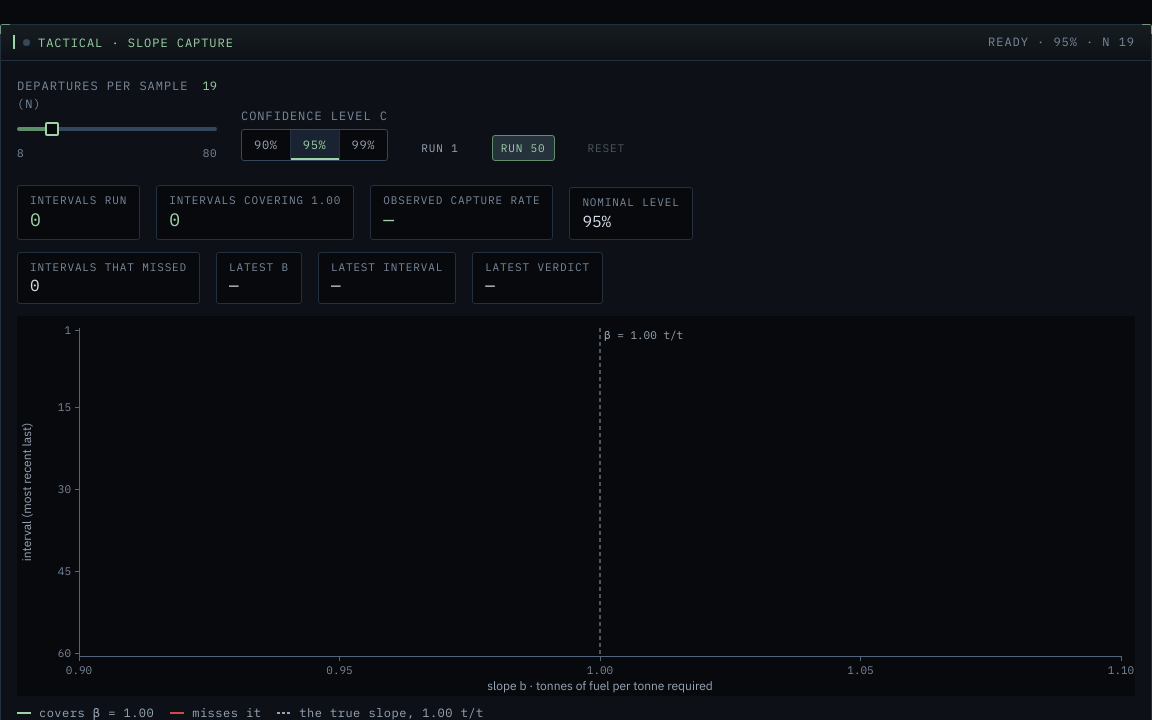
Test case: <SlopeCaptureSimulator> › clears the board when the level or the sample size changes, and on RESET
Click the button "RUN 50" at (523, 148), box [492,135,555,161]
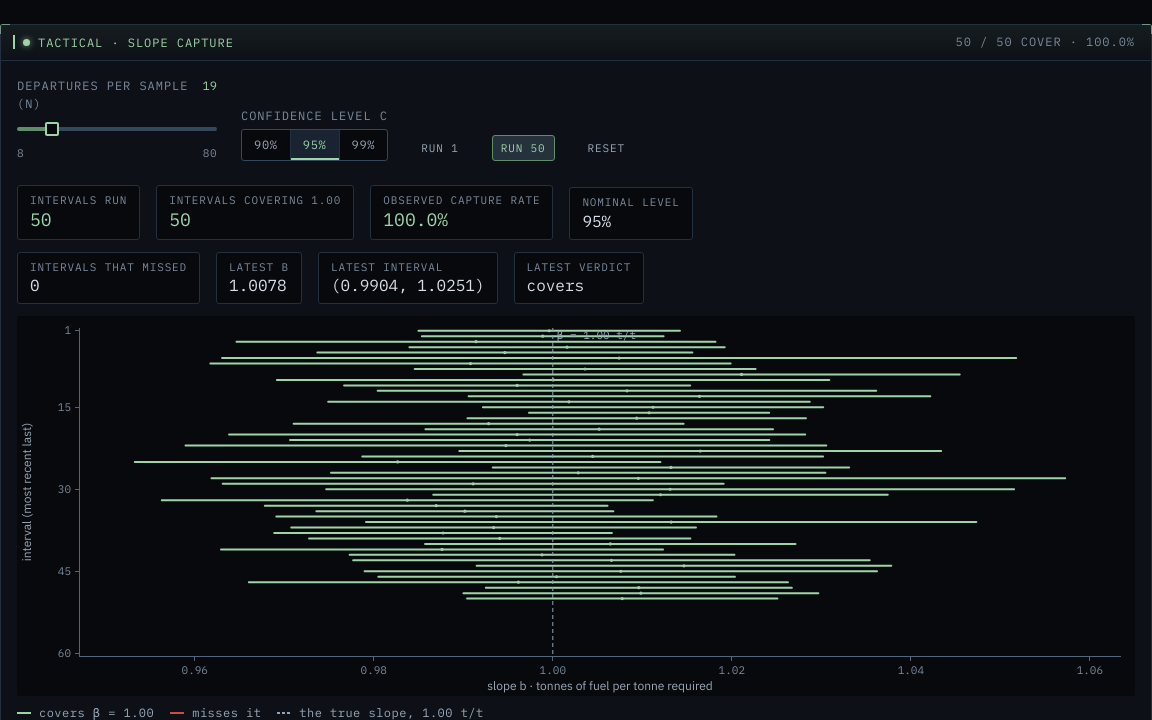
Expected: the 1st text "50" is shown, [30,208,52,231]
Click the radio button labelled "99%" at (363, 145), box [340,130,387,160]
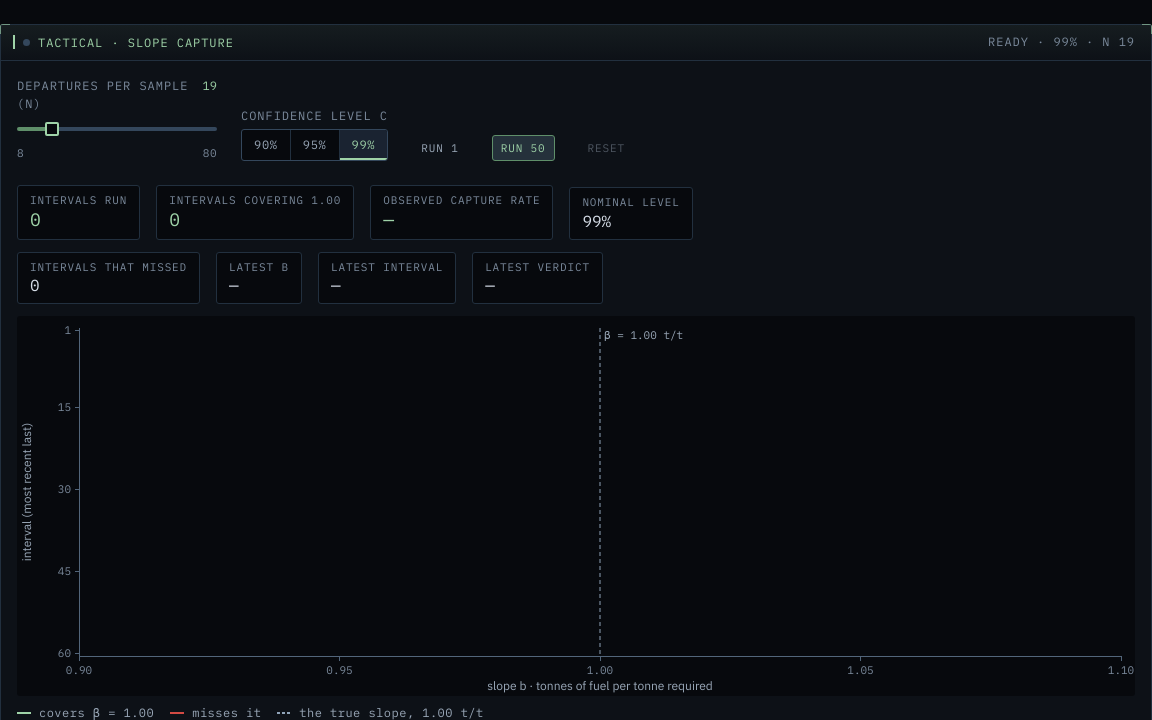
Expected: the 1st text "0" is shown, [30,208,41,231]
Click the button "RUN 1" at (440, 148), box [412,135,468,161]
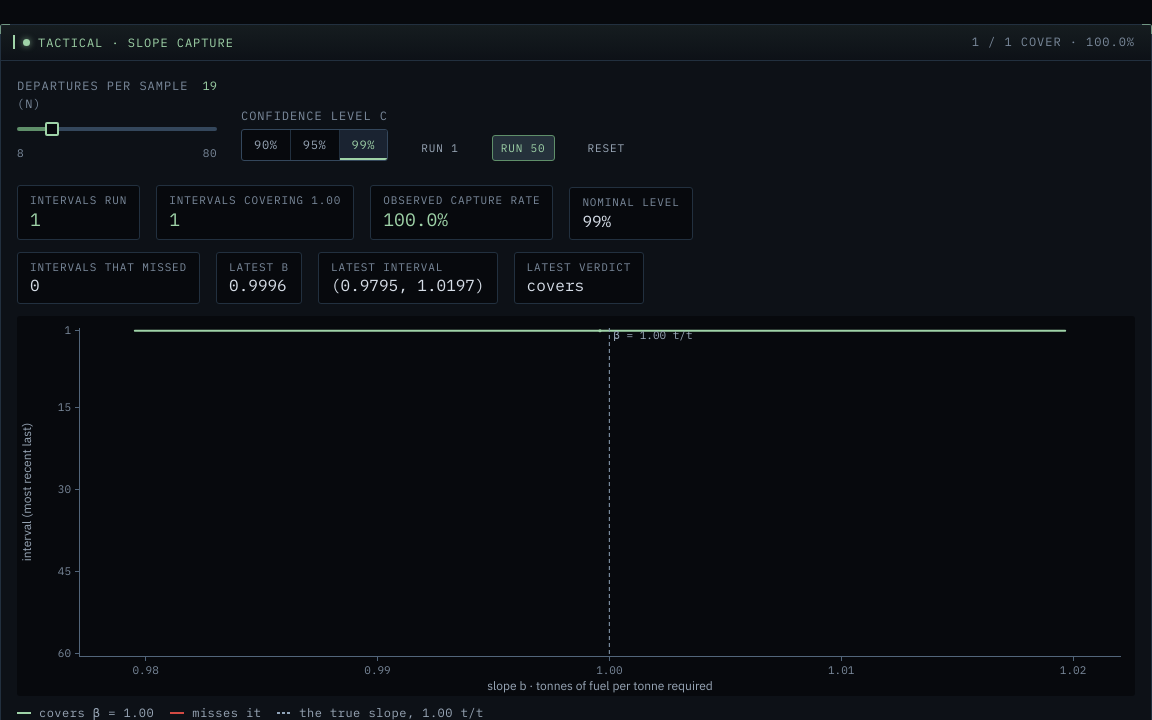
Click the button "RESET" at (606, 148), box [579,135,634,161]
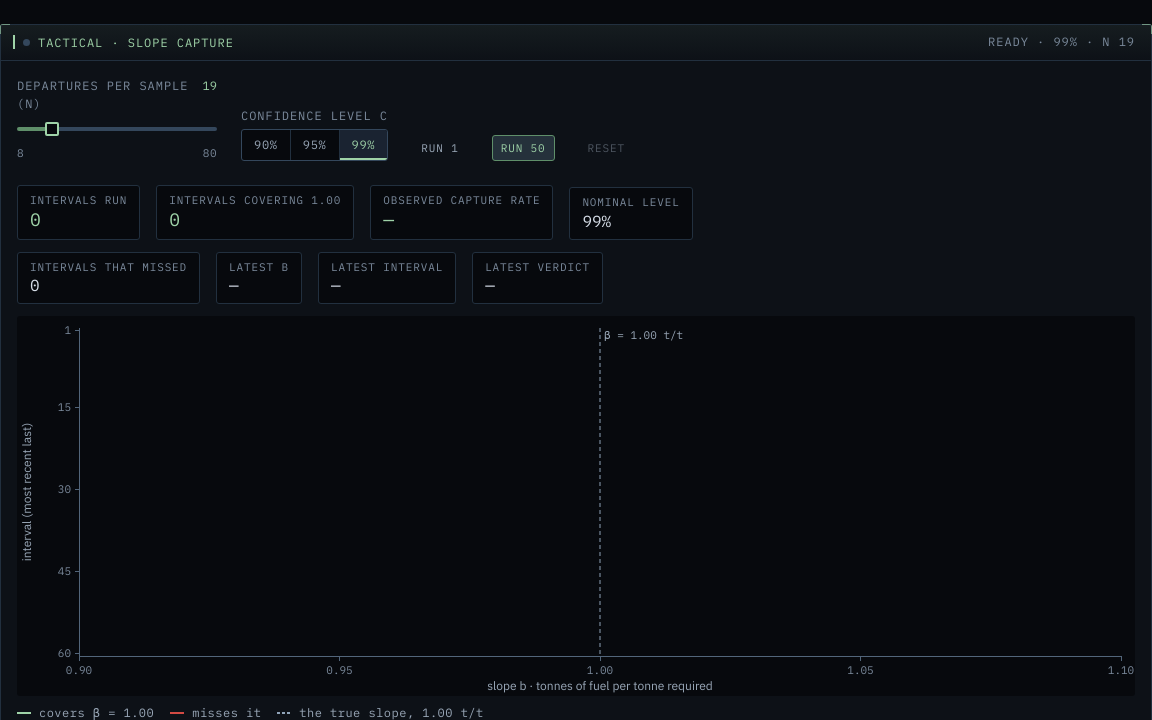
Expected: the 1st text "0" is shown, [30,208,41,231]
